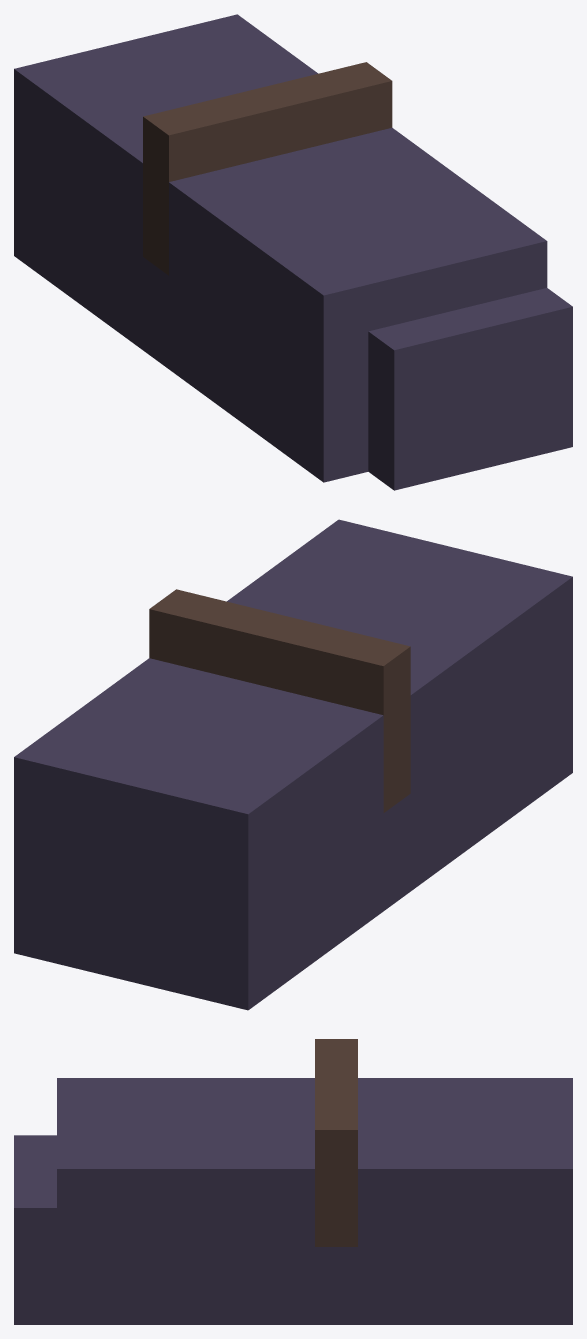
Rendered from mystic_legendary_boot_foot_L_lod1.glb.
The picture shows the model from 3 angles, top to bottom: view 1: azimuth 30°, elevation 25°; view 2: azimuth 150°, elevation 25°; view 3: azimuth 270°, elevation 25°; orthographic projection. The views are drawn at different scales.
Visible parts, largest first — view 1: mystic_legendary_boot_foot_L_lod1; view 2: mystic_legendary_boot_foot_L_lod1; view 3: mystic_legendary_boot_foot_L_lod1.
Part boxes in pixels (x1,y1,x2,y2): mystic_legendary_boot_foot_L_lod1: (14,14,572,490); mystic_legendary_boot_foot_L_lod1: (14,519,572,1010); mystic_legendary_boot_foot_L_lod1: (14,1039,572,1324).
Bounding box in the file's own units: 0.12 × 0.12 × 0.312.
